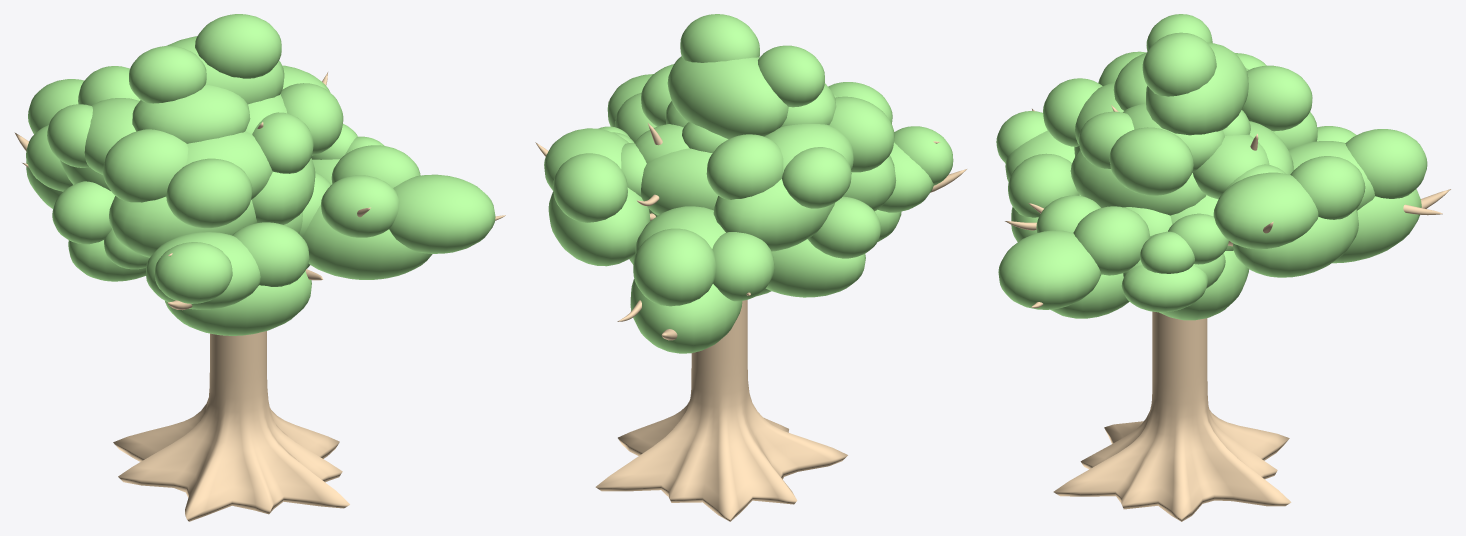
Rendered from Tree_Lvl_1.fbx.
3 views of the same model, side by side, from view 1: azimuth 30°, elevation 25°; view 2: azimuth 150°, elevation 25°; view 3: azimuth 270°, elevation 25° (orthographic). The views are drawn at different scales.
Parts seen in each view (by area): view 1: pSphere5 (×9), pSphere4 (×9), Trunk, pSphere3 (×7), pSphere2 (×7); view 2: pSphere2 (×7), pSphere5 (×8), Trunk, pSphere4 (×7), pSphere3 (×7); view 3: pSphere5 (×9), pSphere3 (×10), pSphere2 (×9), Trunk, pSphere4 (×8).
Part boxes in pixels (left/top/right/bottom): pSphere5 (×9): left=28, top=14, right=420, bottom=286; pSphere4 (×9): left=26, top=46, right=399, bottom=303; Trunk: left=113, top=331, right=349, bottom=521; pSphere3 (×7): left=84, top=65, right=495, bottom=309; pSphere2 (×7): left=60, top=36, right=432, bottom=335; pSphere2 (×7): left=548, top=56, right=896, bottom=353; pSphere5 (×8): left=553, top=14, right=894, bottom=306; Trunk: left=595, top=300, right=847, bottom=521; pSphere4 (×7): left=621, top=45, right=953, bottom=301; pSphere3 (×7): left=544, top=74, right=933, bottom=254; pSphere5 (×9): left=1008, top=32, right=1427, bottom=275; pSphere3 (×10): left=998, top=52, right=1374, bottom=312; pSphere2 (×9): left=1050, top=42, right=1421, bottom=320; Trunk: left=1053, top=311, right=1291, bottom=521; pSphere4 (×8): left=996, top=14, right=1356, bottom=273.
Bounding box in the file's own units: 1402 × 1695 × 1589.
